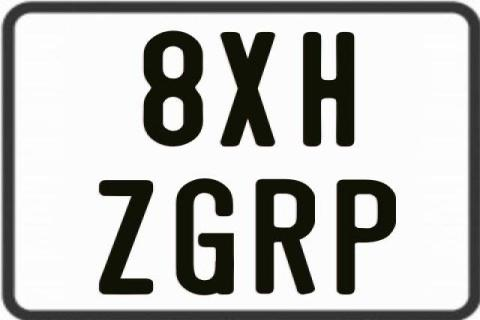0: (141, 30, 207, 146)
G: (174, 178, 234, 300)
H: (301, 31, 354, 148)
P: (335, 180, 398, 299)
R: (256, 178, 318, 298)
X: (217, 32, 276, 150)
Z: (98, 180, 158, 294)
